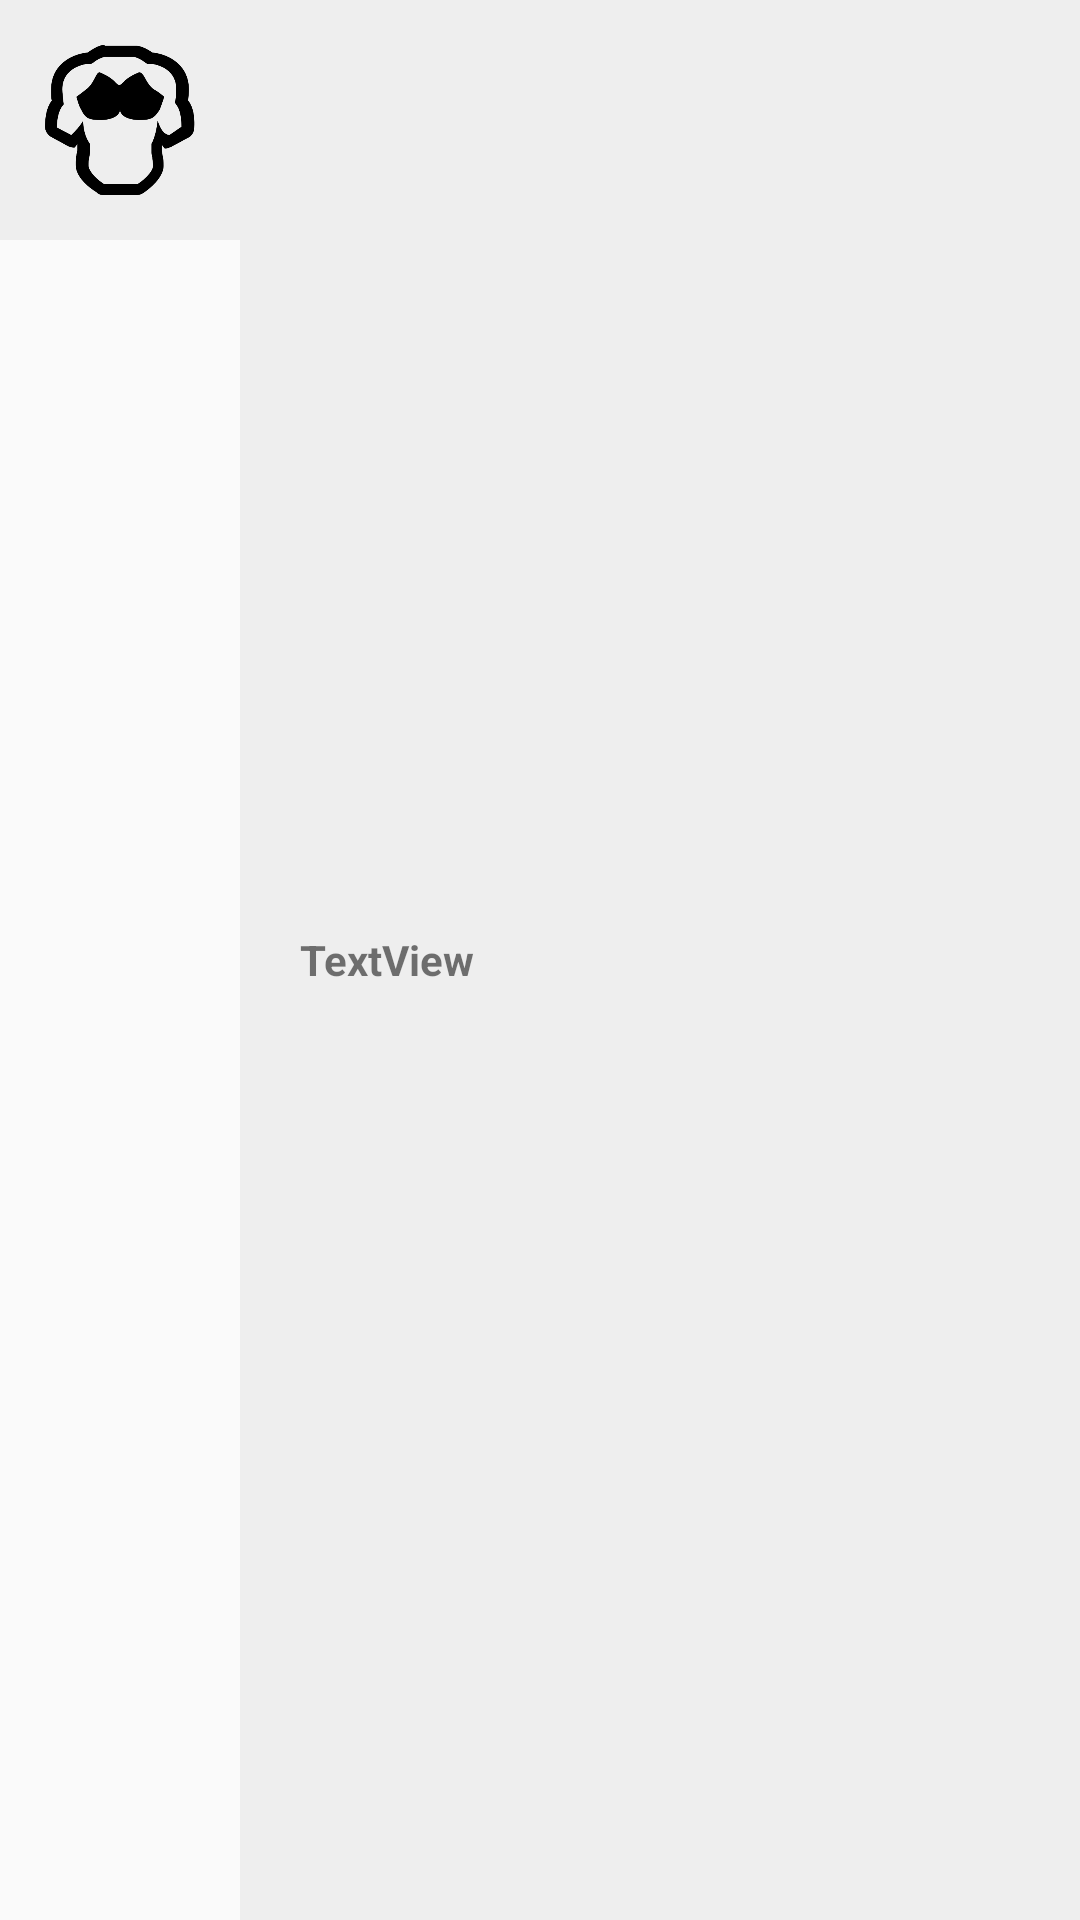

Where to tap for icons on this 1080w x 1920h app screen, as point (x, y):
chest: point (120, 120)
